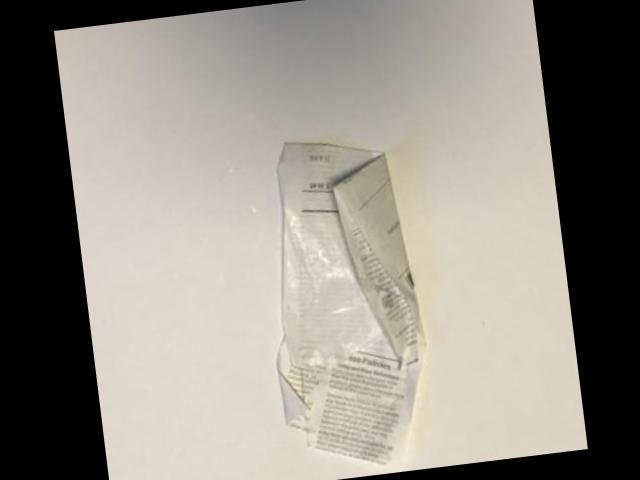cardboard paper: (275, 145, 420, 466)
